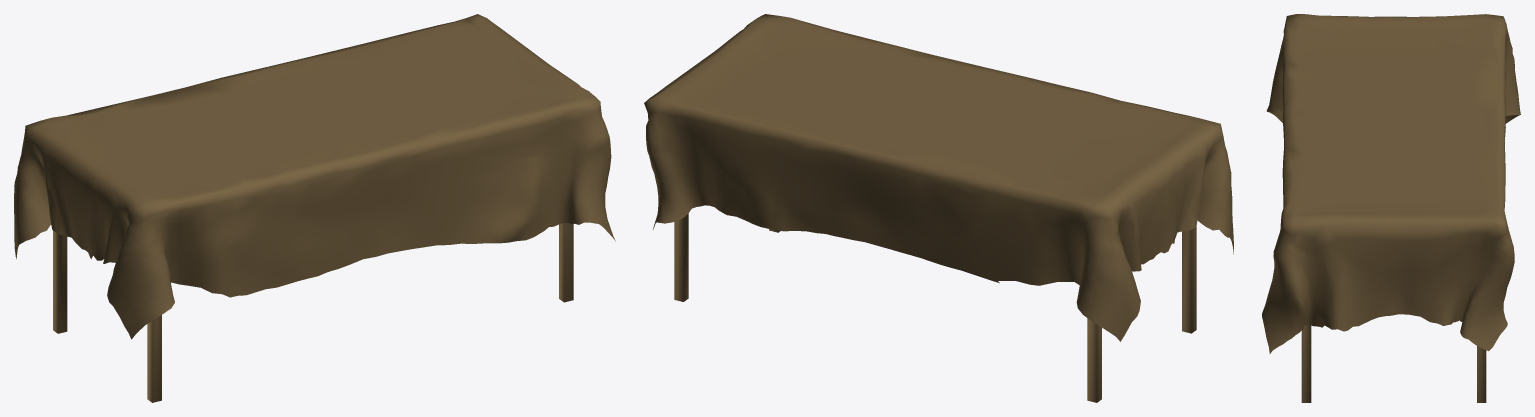
The model's file is Table.fbx.
3 views of the same model, side by side, from view 1: azimuth 30°, elevation 25°; view 2: azimuth 150°, elevation 25°; view 3: azimuth 270°, elevation 25° (orthographic). The views are drawn at different scales.
Parts seen in each view (by area): view 1: Tablecloth.005; view 2: Tablecloth.005; view 3: Tablecloth.005.
Part boxes in pixels (x1=…): Tablecloth.005: x1=14, y1=14, x2=615, y2=402; Tablecloth.005: x1=644, y1=14, x2=1233, y2=402; Tablecloth.005: x1=1262, y1=14, x2=1520, y2=402.
Size of the model in its own units: 281 by 113 by 138.
